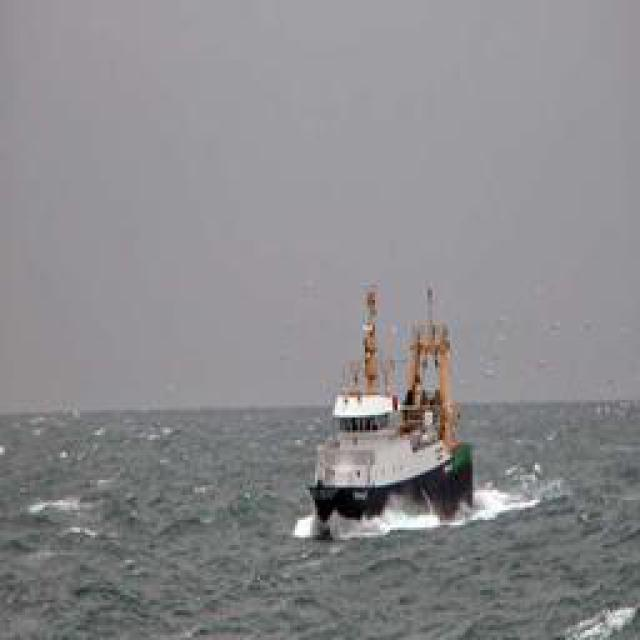Ship: (310, 280, 478, 518)
